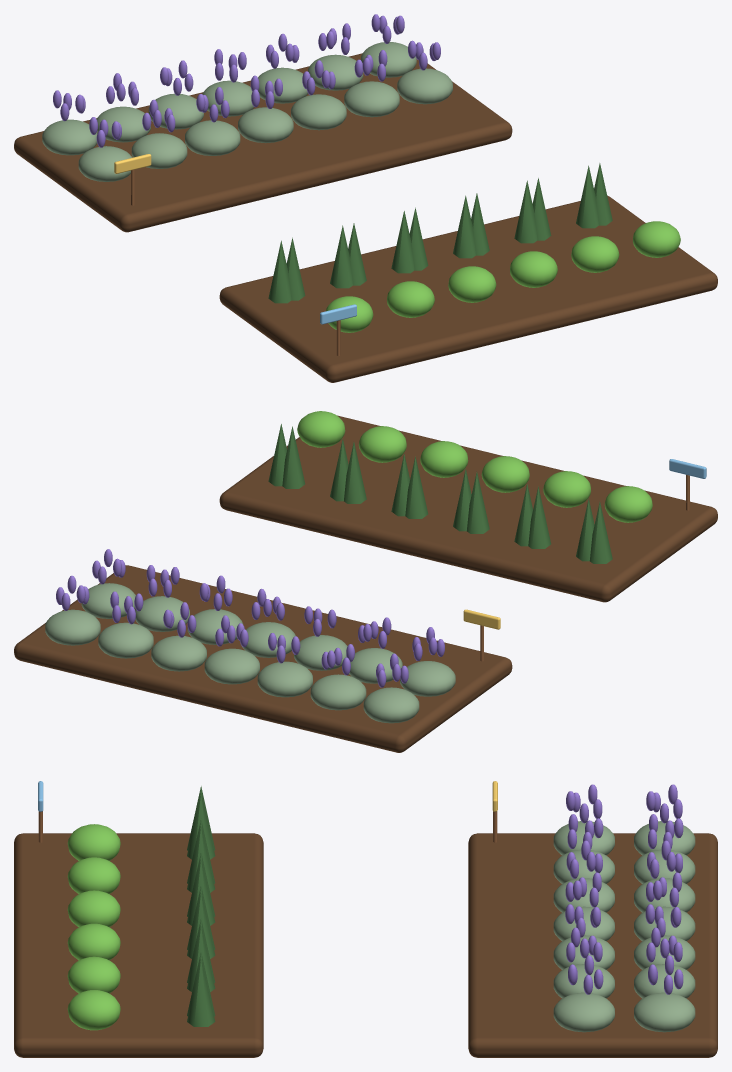
The model's file is veggies-herbs.glb.
3 views of the same model, one above another, from view 1: azimuth 30°, elevation 25°; view 2: azimuth 150°, elevation 25°; view 3: azimuth 270°, elevation 25° (orthographic). The views are drawn at different scales.
Bounding box in the file's own units: 2.8 × 0.52 × 3.95.
